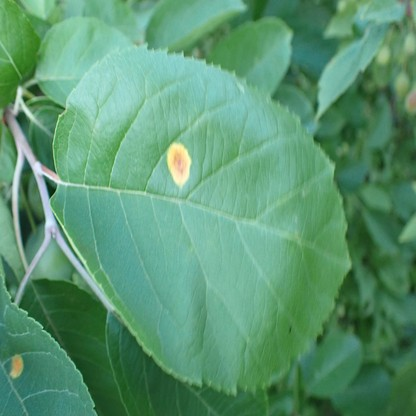rust: (167, 142, 191, 186), (10, 356, 25, 379)
